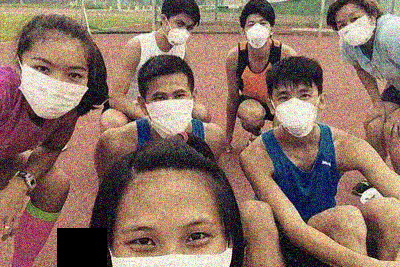with_mask: (110, 218, 233, 267), (21, 54, 90, 119), (145, 89, 195, 139), (275, 88, 320, 136), (338, 12, 374, 48), (244, 18, 274, 48), (165, 18, 194, 47)
